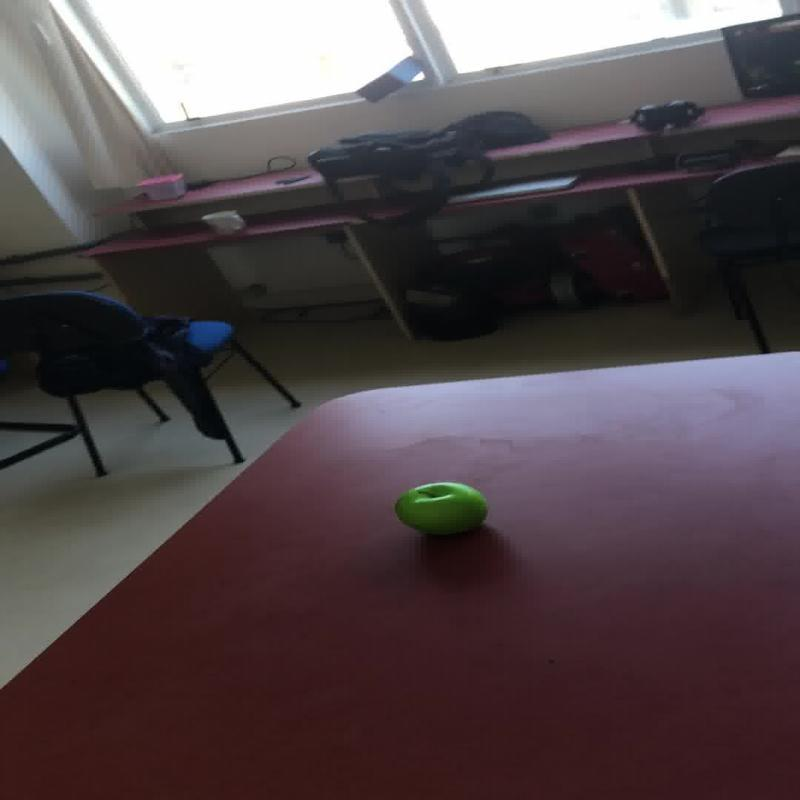apple: (393, 481, 487, 535)
